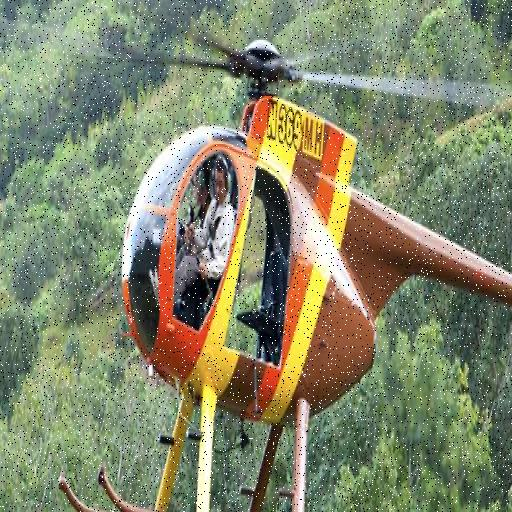helicopter: (27, 42, 512, 512)
